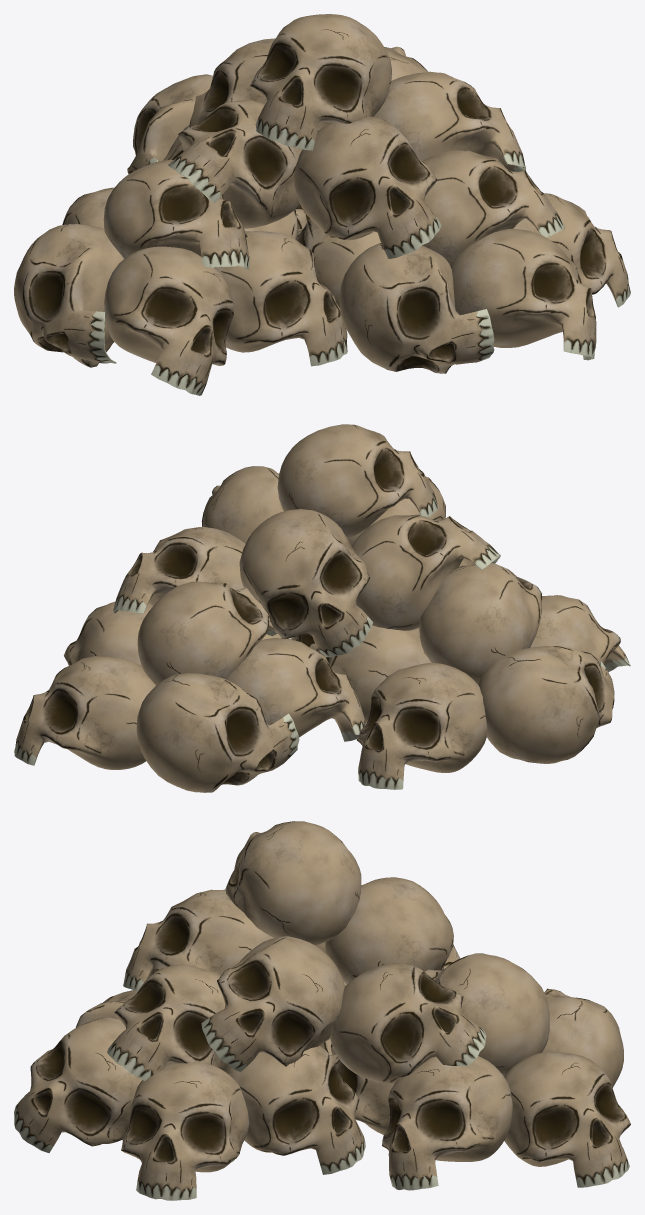
The model's file is SkullPileBig.fbx.
3 renders of one model, top to bottom at view 1: azimuth 30°, elevation 25°; view 2: azimuth 150°, elevation 25°; view 3: azimuth 270°, elevation 25°, orthographic. The views are drawn at different scales.
Visible parts, largest first — view 1: Skull_PileBig1; view 2: Skull_PileBig1; view 3: Skull_PileBig1.
Boxes of the visible parts, x1,y1,x2,y2 form: Skull_PileBig1: [14, 14, 630, 395]; Skull_PileBig1: [14, 424, 630, 792]; Skull_PileBig1: [14, 821, 630, 1200].
Bounding box in the file's own units: 8.8 × 4.68 × 9.44.
